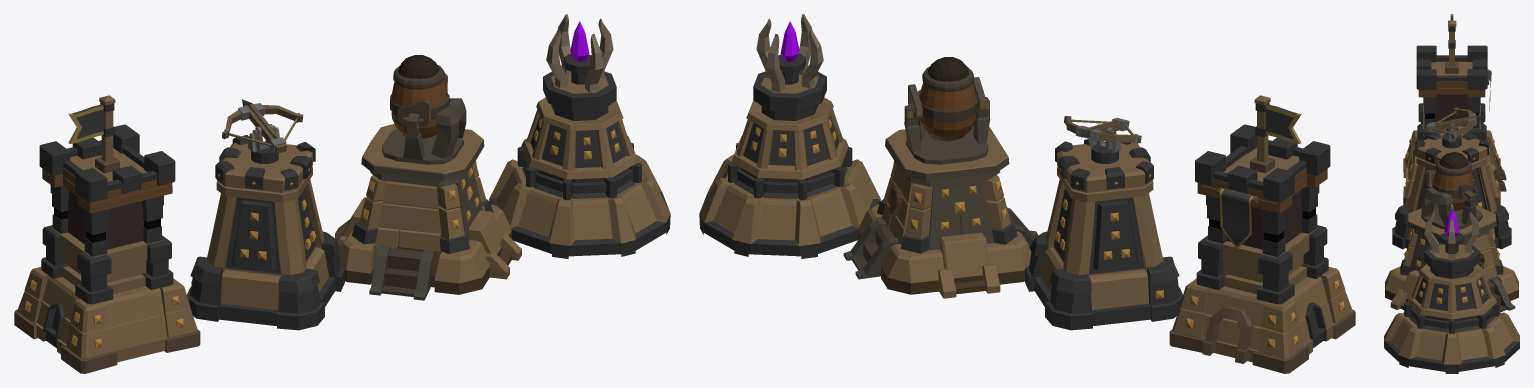
Rendered from towers.fbx.
3 renders of one model, left to right at view 1: azimuth 30°, elevation 25°; view 2: azimuth 150°, elevation 25°; view 3: azimuth 270°, elevation 25°, orthographic. The views are drawn at different scales.
Visible parts, largest first — view 1: UnityTower, Kule, Cube.003, Cube.004; view 2: UnityTower, Kule, Cube.003, Cube.004; view 3: Cube.003, Kule, UnityTower, Cube.004.
Part boxes in pixels (x1,y1,x2,y2): UnityTower: [14, 95, 200, 373]; Kule: [335, 55, 521, 300]; Cube.003: [489, 14, 670, 258]; Cube.004: [187, 99, 344, 330]; UnityTower: [1169, 95, 1355, 373]; Kule: [843, 57, 1038, 298]; Cube.003: [699, 14, 880, 258]; Cube.004: [1025, 116, 1182, 330]; Cube.003: [1384, 204, 1519, 373]; Kule: [1385, 152, 1518, 312]; UnityTower: [1403, 14, 1506, 204]; Cube.004: [1392, 107, 1511, 249].
Size of the model in its own units: 479 by 180 by 133.
